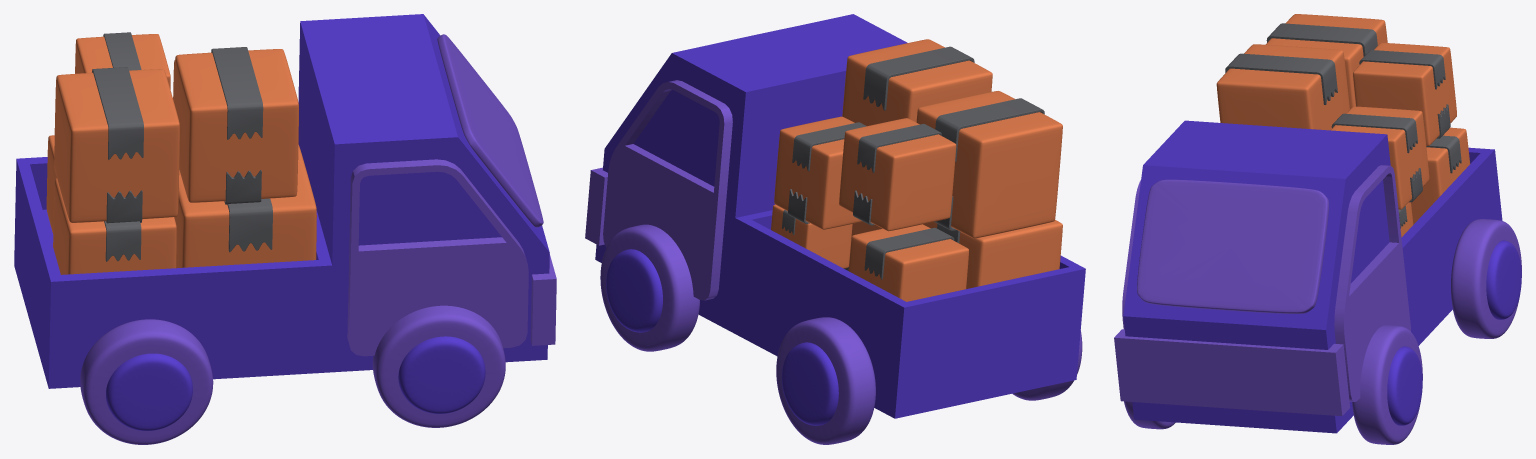
Rendered from delivery-car-3d-icon-946659335291.glb.
The picture shows the model from 3 angles, left to right: view 1: azimuth 30°, elevation 25°; view 2: azimuth 150°, elevation 25°; view 3: azimuth 270°, elevation 25°; orthographic projection. The views are drawn at different scales.
Parts seen in each view (by area): view 1: Body 1, Box, Body 2, Tape; view 2: Body 1, Box, Body 2, Tape; view 3: Body 2, Body 1, Box, Tape.
Boxes of the visible parts, left/top/right/bottom form: Body 1: left=14, top=14, right=549, bottom=430; Box: left=46, top=34, right=316, bottom=274; Body 2: left=80, top=34, right=556, bottom=444; Tape: left=92, top=32, right=272, bottom=261; Body 1: left=595, top=14, right=1085, bottom=425; Box: left=771, top=39, right=1062, bottom=301; Body 2: left=585, top=29, right=1082, bottom=444; Tape: left=782, top=46, right=1044, bottom=279; Body 2: left=1114, top=165, right=1521, bottom=444; Body 1: left=1123, top=120, right=1521, bottom=433; Box: left=1216, top=14, right=1470, bottom=237; Tape: left=1225, top=23, right=1461, bottom=228.
Size of the model in its own units: 1.63 by 1.07 by 1.29.
